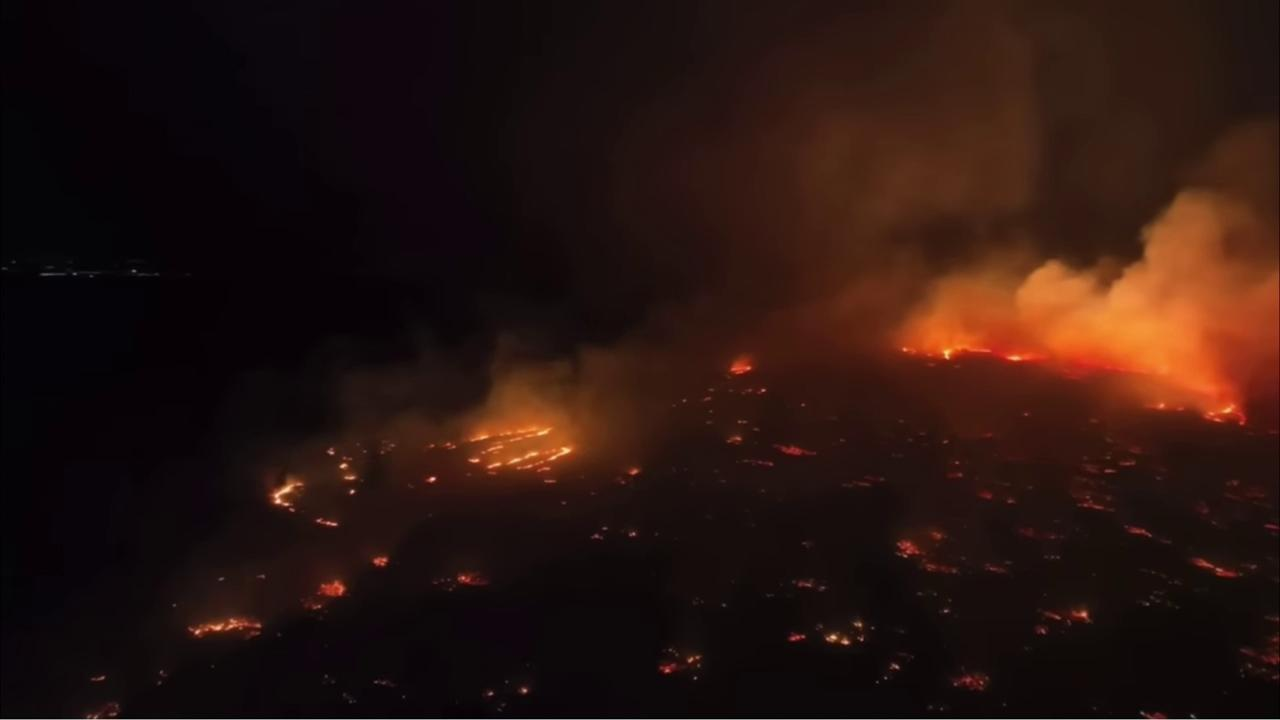fire: (464, 423, 575, 478), (1066, 442, 1142, 512), (892, 528, 961, 577), (1153, 396, 1250, 426), (1237, 631, 1280, 687), (182, 616, 264, 642), (300, 575, 350, 613), (900, 342, 992, 362), (265, 477, 307, 513), (658, 650, 706, 681), (823, 614, 864, 649), (1035, 602, 1094, 624), (1188, 555, 1243, 578), (951, 668, 991, 693), (1013, 524, 1067, 542), (769, 441, 817, 458), (83, 701, 122, 720), (839, 473, 888, 488), (454, 568, 490, 587), (788, 577, 829, 593), (734, 456, 774, 469), (338, 460, 358, 482), (1121, 525, 1154, 538), (368, 553, 392, 570), (1137, 708, 1171, 720), (981, 560, 1010, 574), (313, 516, 339, 528), (783, 630, 807, 643), (1032, 623, 1049, 641), (728, 364, 753, 375), (1261, 520, 1280, 534), (625, 463, 643, 477), (1096, 362, 1124, 371), (976, 488, 995, 501), (89, 673, 109, 684), (1003, 353, 1026, 362), (725, 435, 744, 445), (946, 470, 965, 480), (888, 660, 901, 673), (1262, 614, 1280, 623), (516, 687, 532, 697), (425, 472, 437, 484), (326, 445, 338, 457), (1006, 496, 1018, 506), (756, 386, 768, 395), (627, 530, 638, 539), (444, 442, 458, 449), (346, 488, 358, 496), (542, 479, 559, 484), (485, 689, 495, 697), (736, 419, 749, 425), (430, 444, 437, 449)
smoke: (140, 0, 1280, 682)
